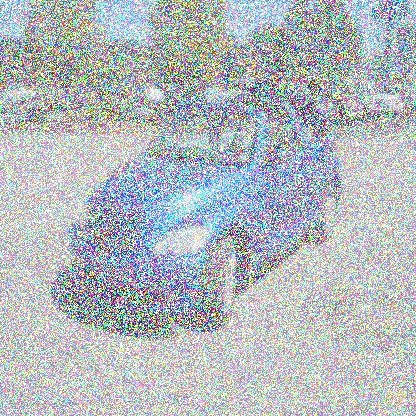Vehicle: (68, 98, 342, 326)
